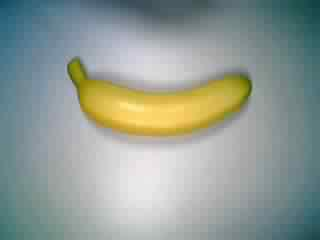banana: (63, 54, 257, 141)
